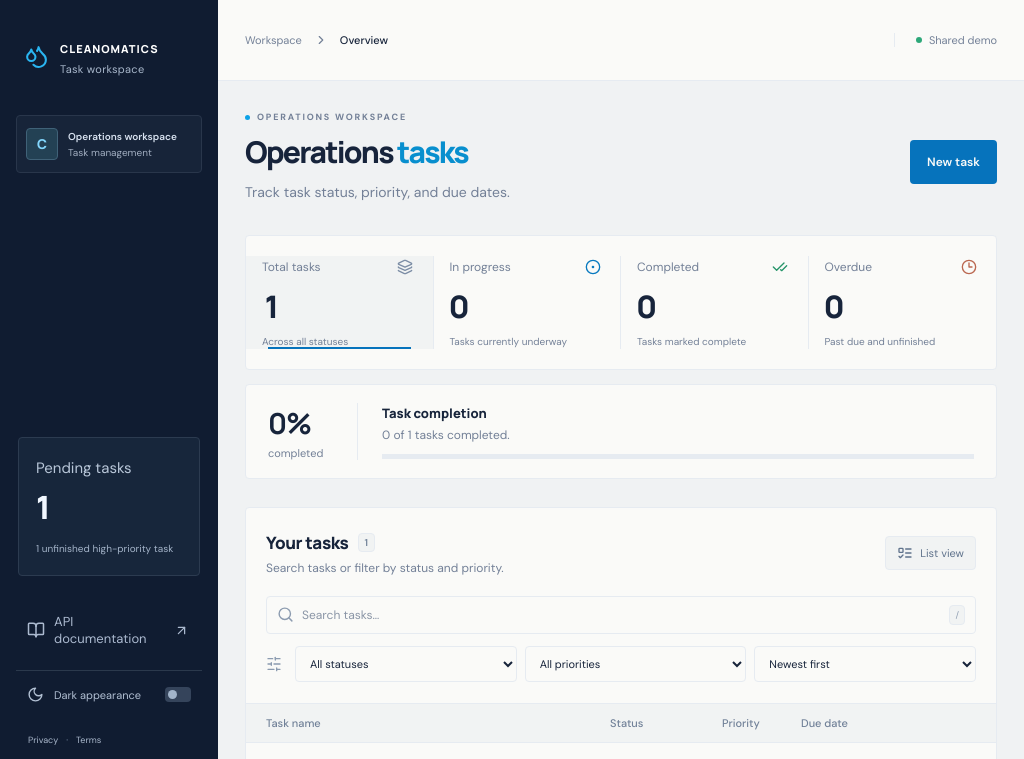
Test: workspace journeys › keeps status navigation in dashboard metrics and out of sidebar
Step 1. Click the button "Completed 0 Tasks marked complete" → click(715, 302), box 621,256 -> 808,349
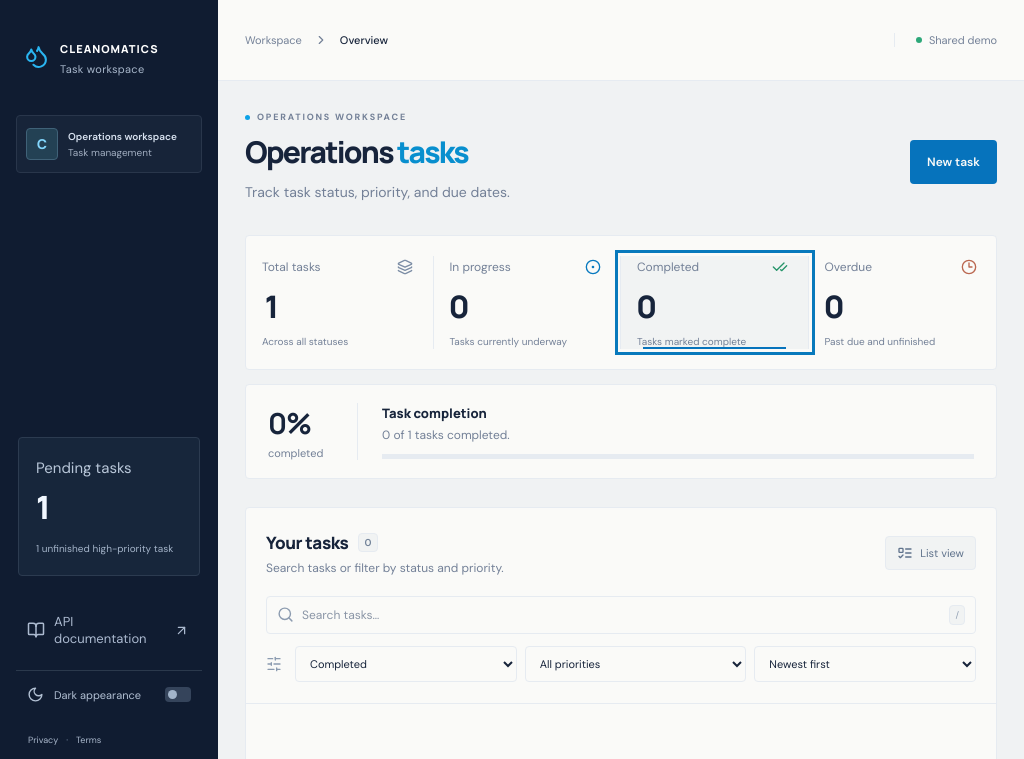
Now the dropdown named "Status filter" shows "Completed", box 295,646 -> 517,682
